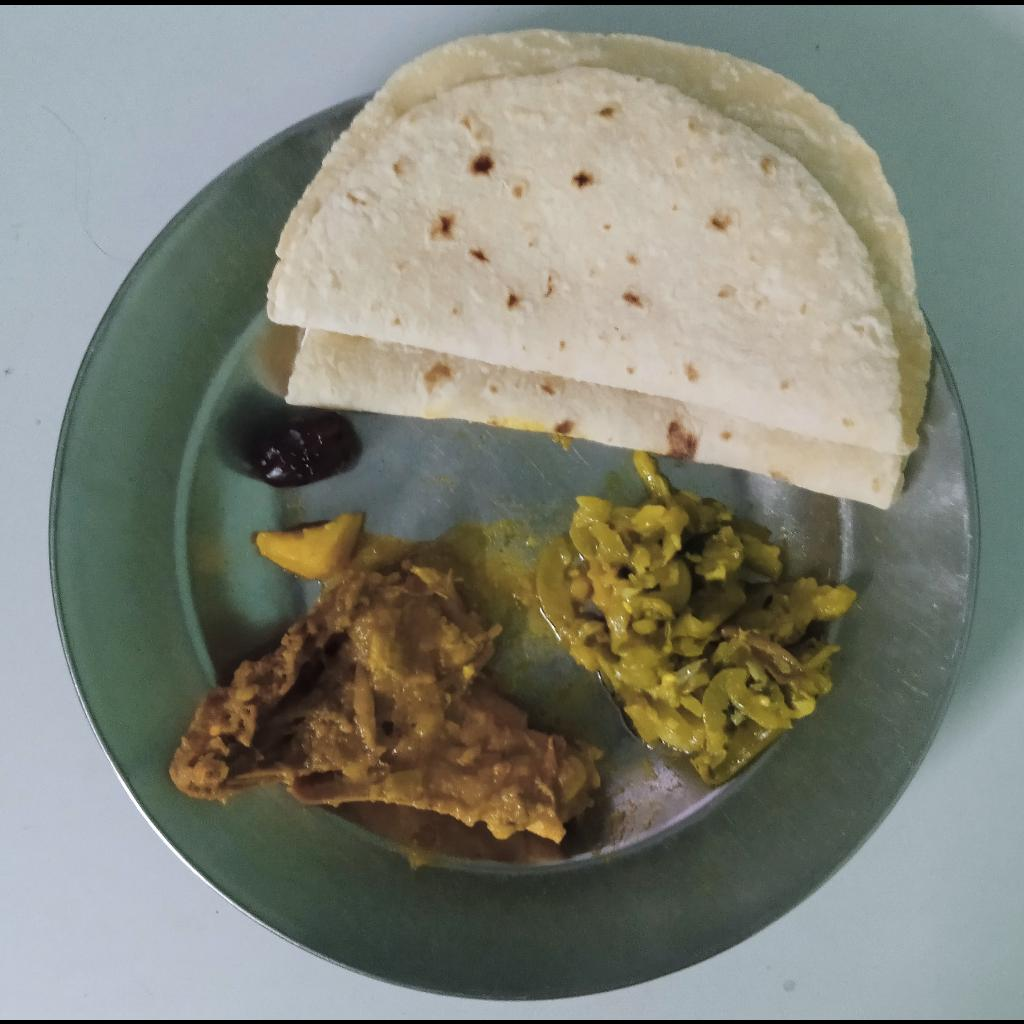chicken: (169, 512, 602, 844)
dates: (251, 412, 364, 489)
ruti: (264, 29, 935, 512)
vegetable: (535, 452, 858, 776)
